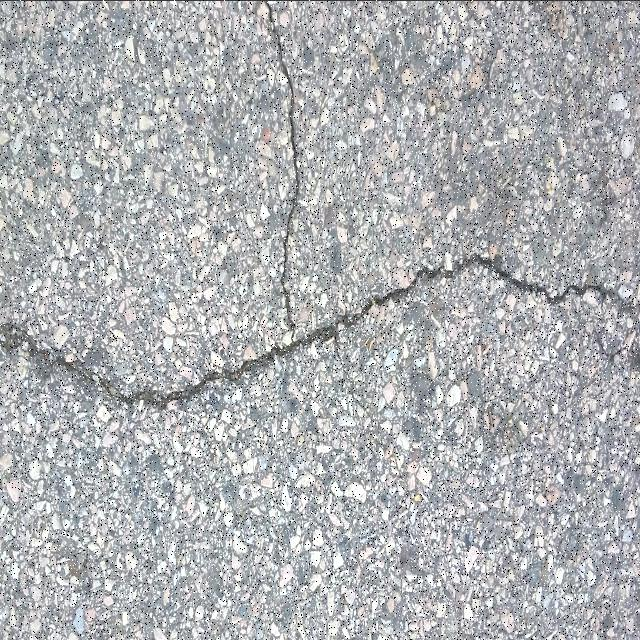Crack: (0, 0, 640, 411)
